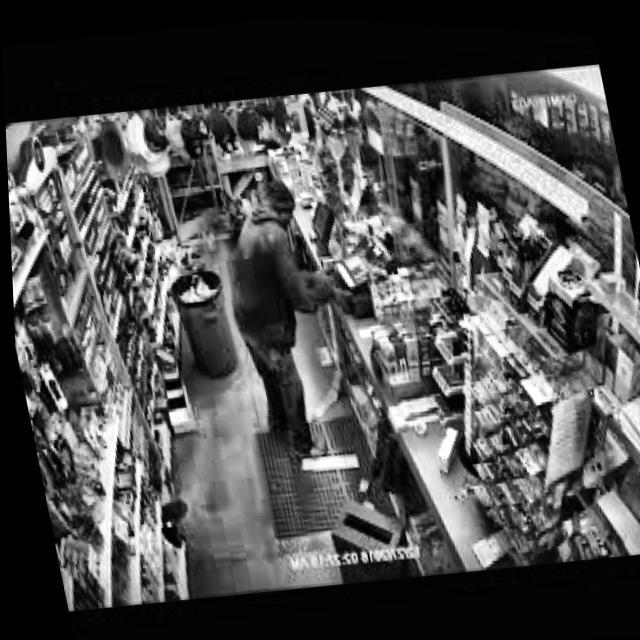burglary: (200, 152, 402, 472)
